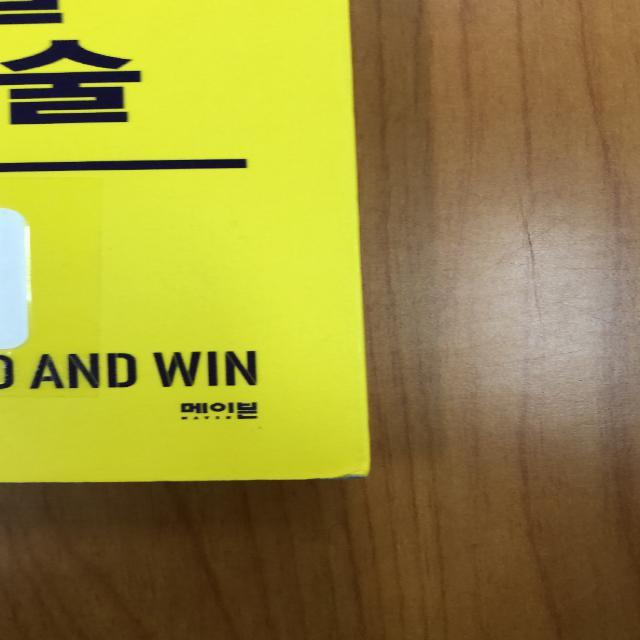Wornout: (286, 456, 381, 487)
